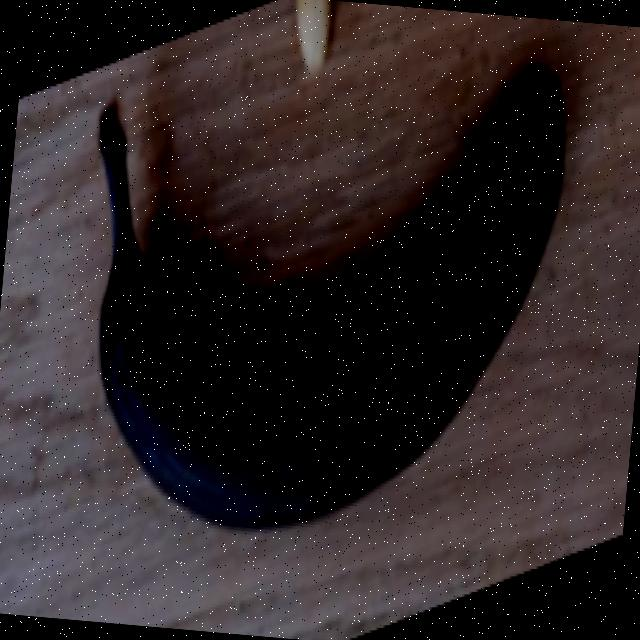Rotten: (41, 0, 595, 611)
